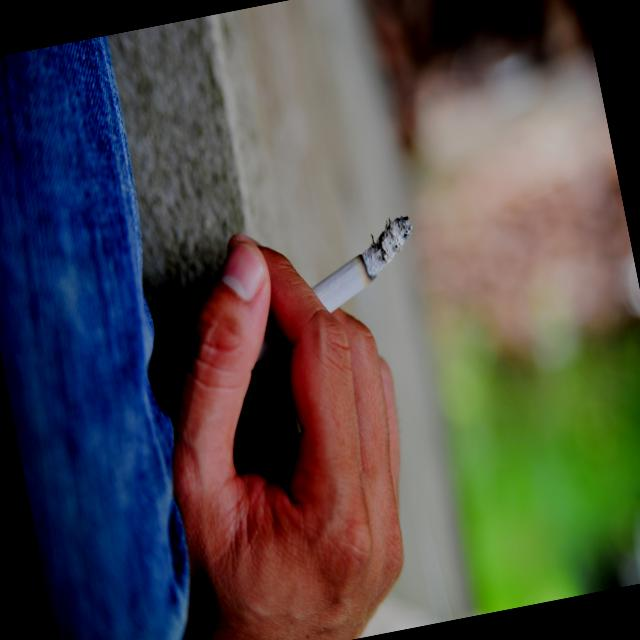smoke: (192, 194, 438, 386)
